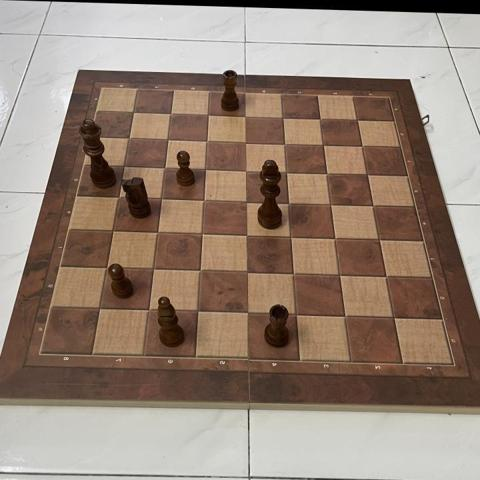xcorner: (237, 135, 255, 152), (354, 138, 371, 156), (278, 164, 295, 182), (111, 190, 129, 207), (154, 191, 171, 209), (364, 198, 382, 215), (238, 227, 255, 245), (326, 230, 344, 247), (377, 268, 395, 285), (141, 302, 159, 319), (288, 306, 305, 324), (126, 106, 143, 123), (163, 107, 180, 124), (200, 108, 217, 125), (237, 109, 254, 126), (274, 110, 291, 127), (312, 111, 329, 128), (349, 112, 366, 129), (121, 132, 138, 149), (160, 133, 177, 150), (199, 134, 216, 151), (276, 136, 293, 153), (315, 137, 332, 154), (117, 160, 134, 177), (157, 161, 174, 178), (197, 162, 214, 179), (238, 163, 255, 180), (318, 166, 335, 183), (359, 167, 376, 184), (196, 193, 213, 210), (238, 194, 255, 211), (280, 195, 297, 212), (322, 196, 339, 213), (106, 224, 123, 241), (150, 225, 167, 242), (194, 226, 211, 243), (282, 229, 299, 246), (371, 231, 388, 248), (100, 260, 117, 277), (146, 262, 163, 279), (192, 263, 209, 280), (239, 264, 256, 281), (285, 266, 302, 283), (331, 267, 348, 284), (93, 301, 110, 318), (190, 304, 207, 321), (239, 305, 256, 322), (336, 308, 353, 325), (385, 309, 402, 326)
